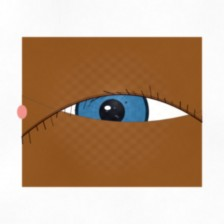pinguecula_lesion: (20, 84, 70, 124)
